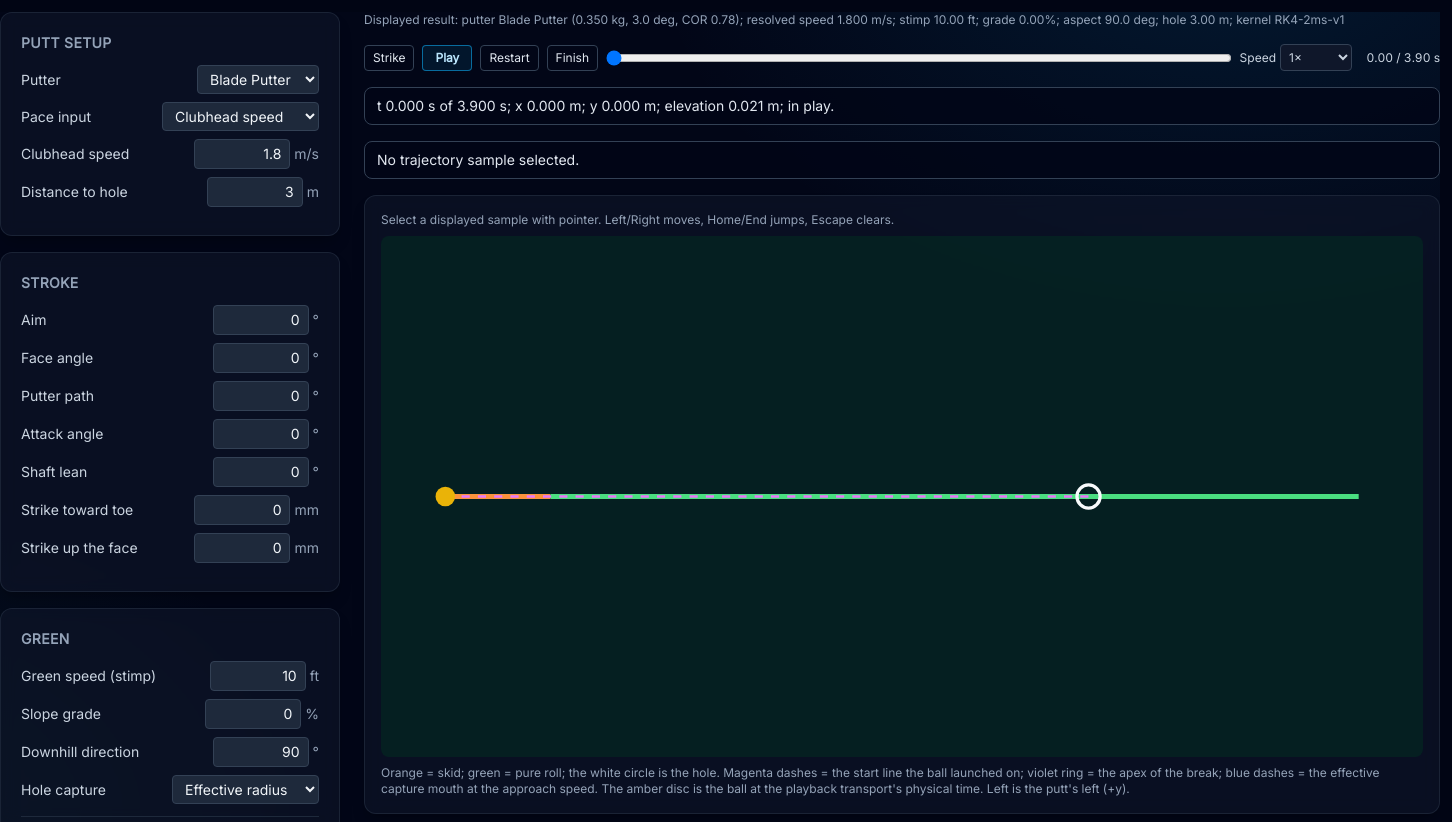
Scenario: PuttingPanel playback on the shared transport (#4800 P8) › jumps to the recorded strike and finish samples
Click the button with aria-label "Jump to Finish". click: (572,58)
box: [547,44,598,70]
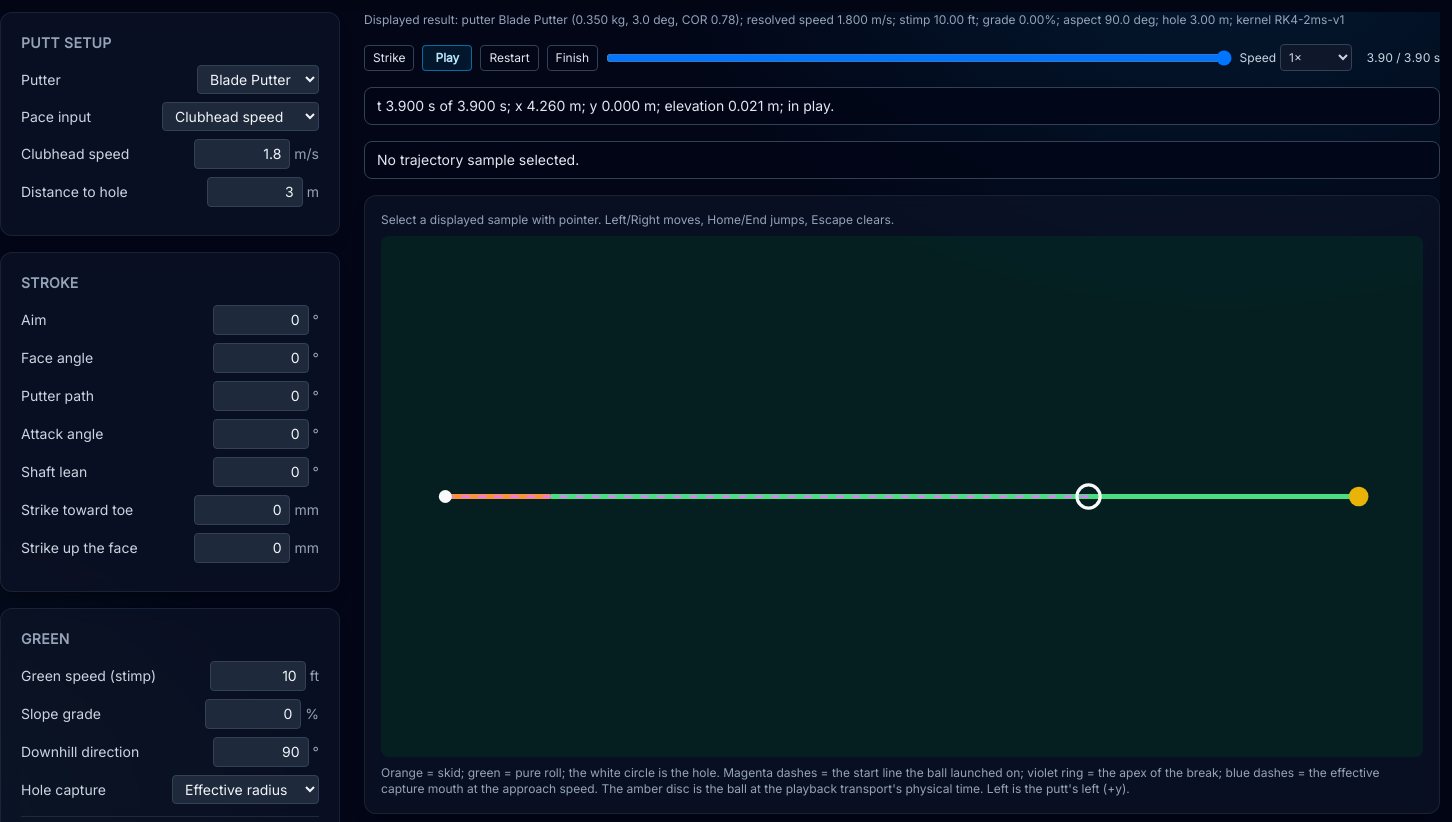
Click the button with aria-label "Jump to Strike". click: (389,58)
box: [364,44,414,70]
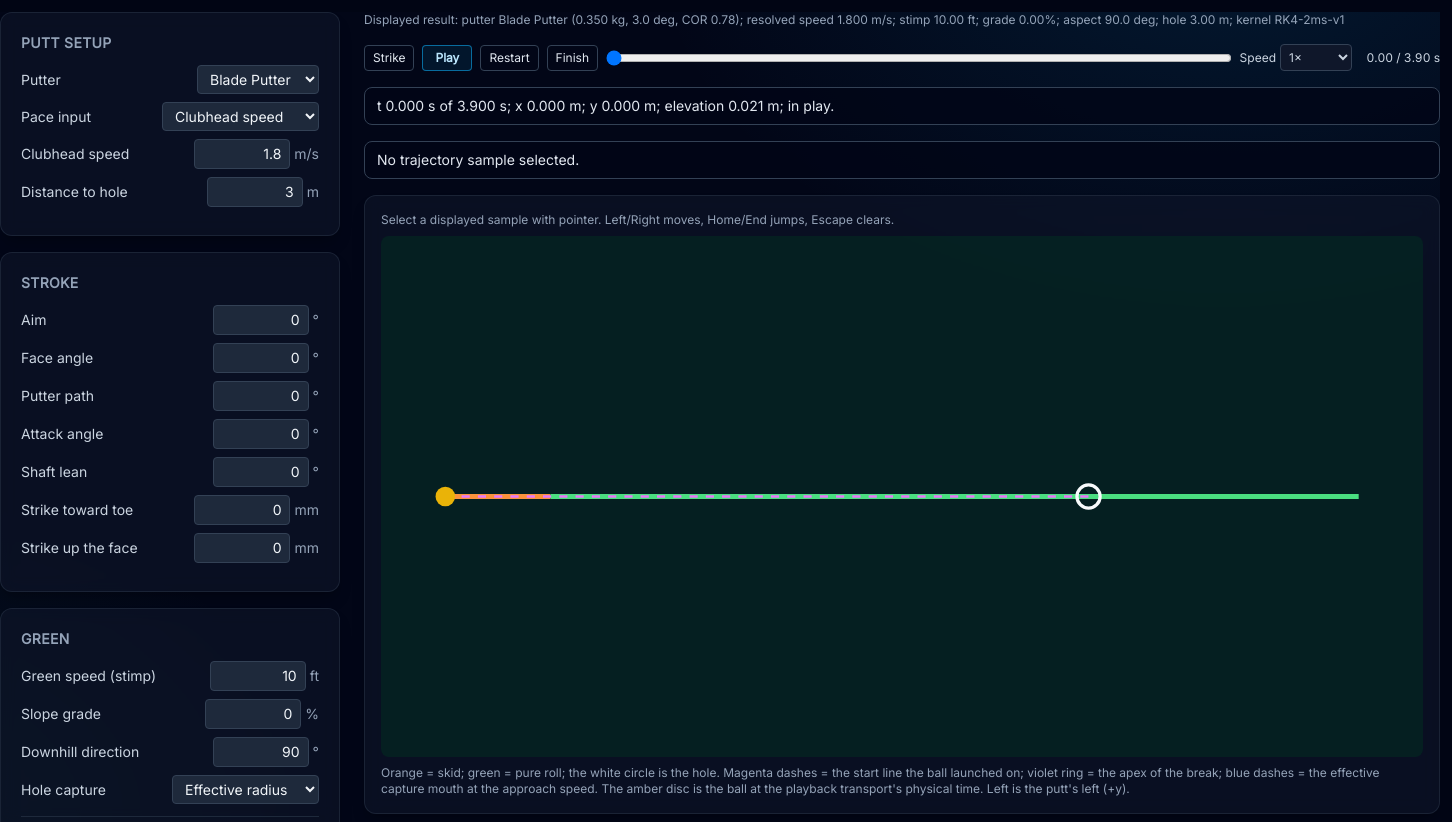
Check: the text named "Putt playback position" shows "0.00 /", box [1360,50,1440,66]
